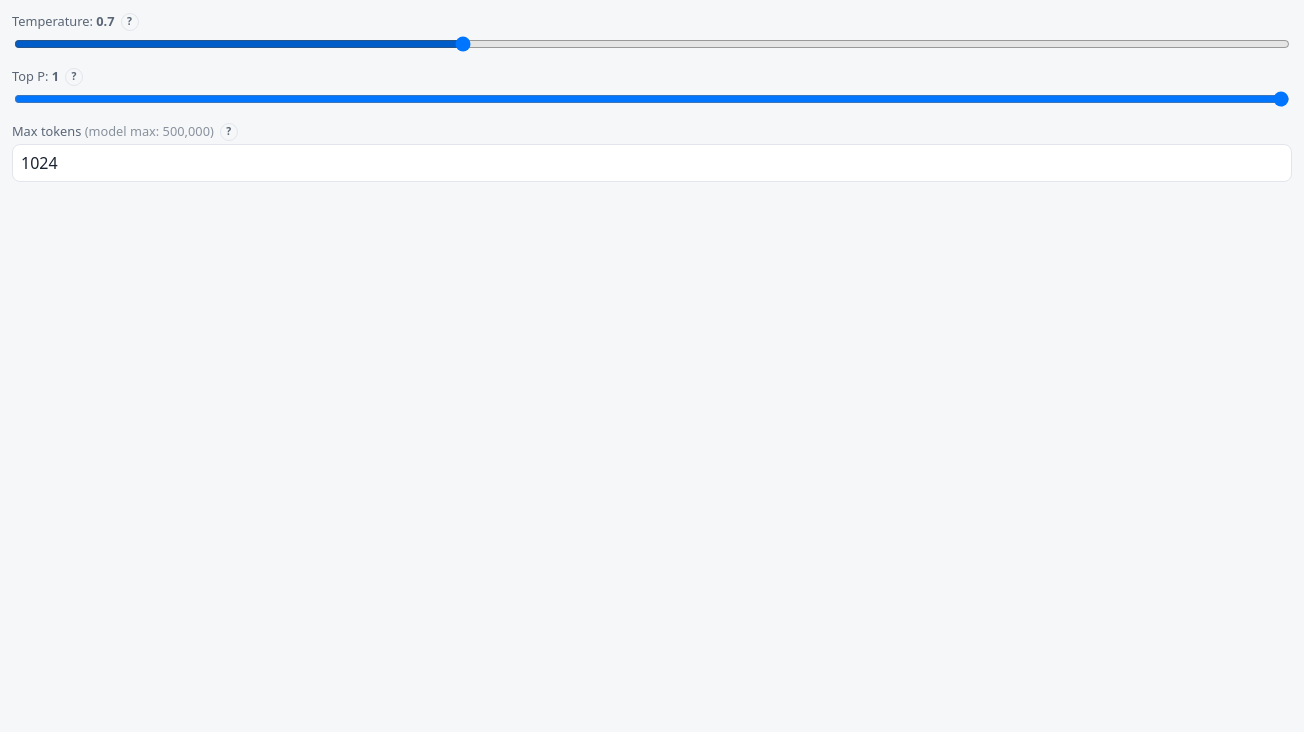
Test: ParamControls › explains a separate application output default without inventing a lower model ceiling
This screenshot has width=1304, height=732.
Click the button named "Help: Max tokens". click: (229, 132)
box: [220,123,238,141]
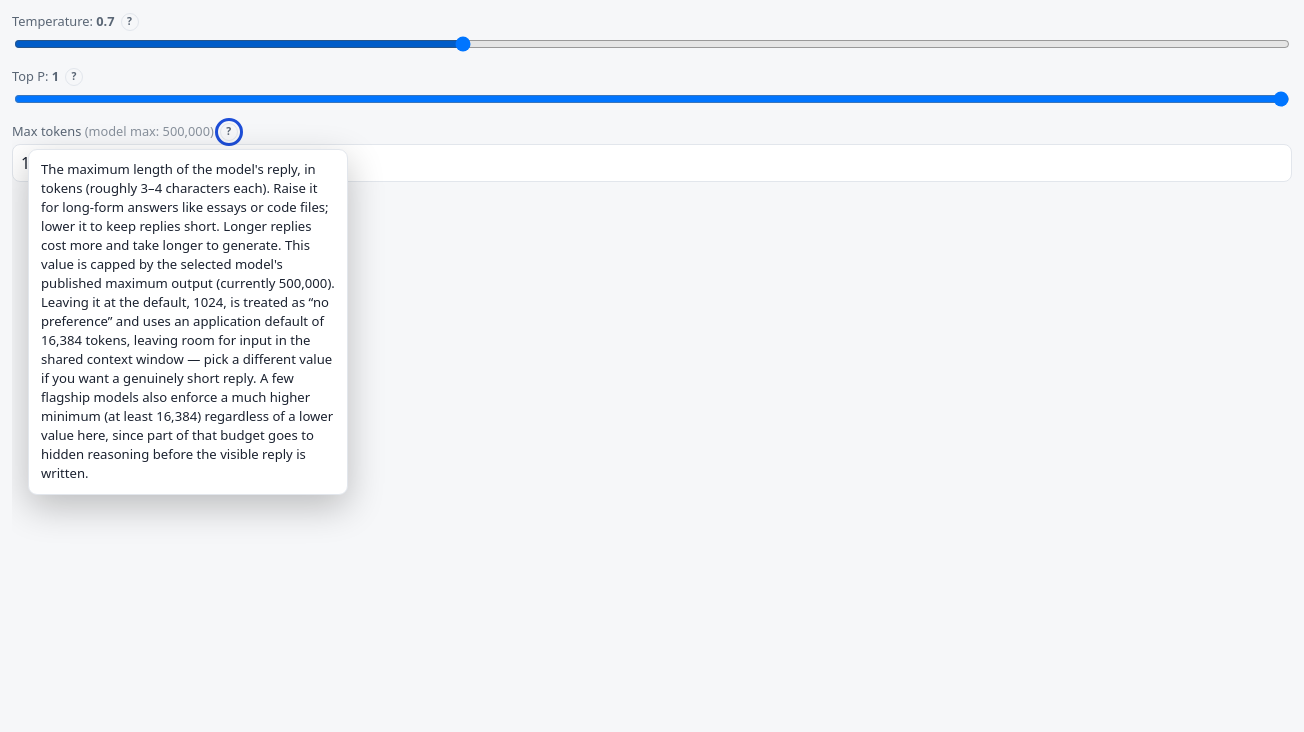
Expected: the tooltip does not show "expands to the model.s full ceiling", [28,149,348,494]
Expected: the tooltip shows "application default of 16,384", [28,149,348,494]
